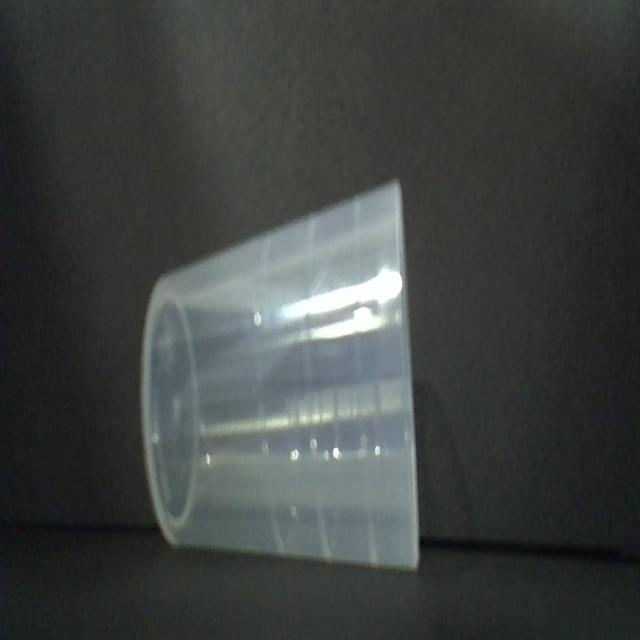cup: (136, 171, 427, 576)
